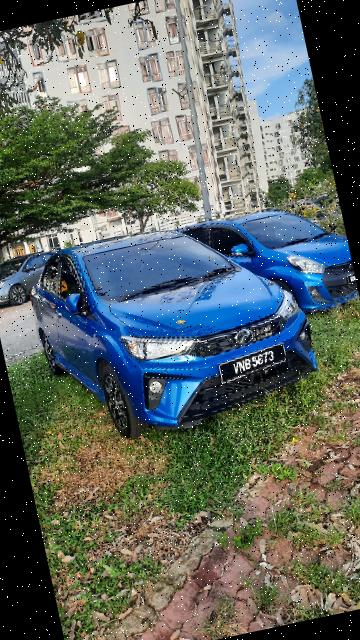License_Plate: (211, 339, 296, 388)
car: (13, 193, 333, 452), (172, 185, 360, 342)
